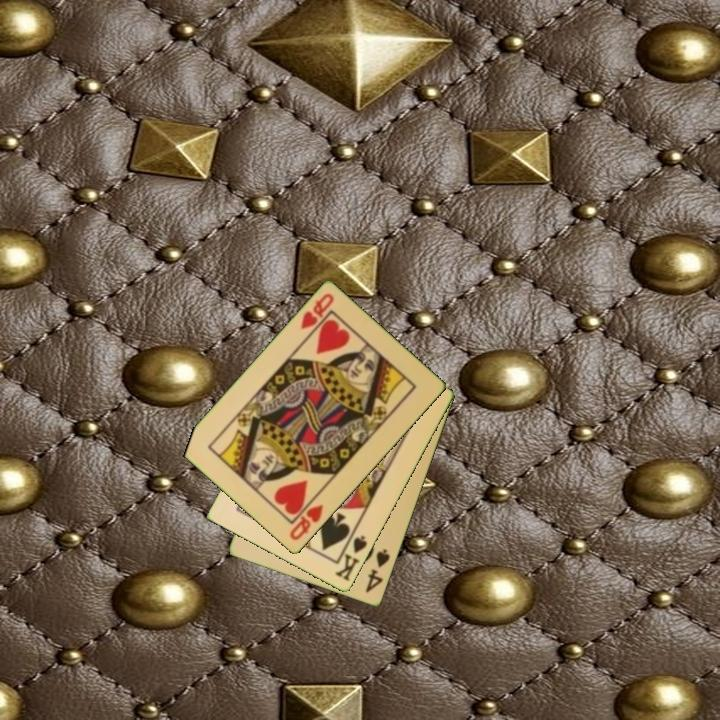4s: (362, 546, 393, 596)
Ks: (332, 528, 370, 585)
Qh: (286, 501, 326, 544), (297, 290, 337, 333)
